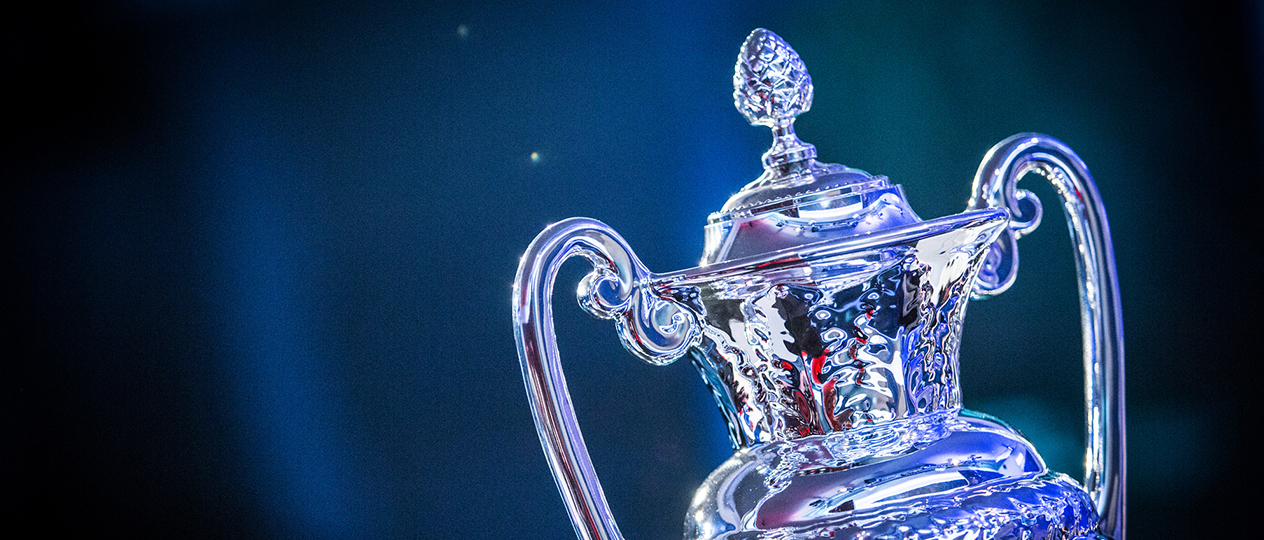trophy: (508, 23, 1134, 540)
